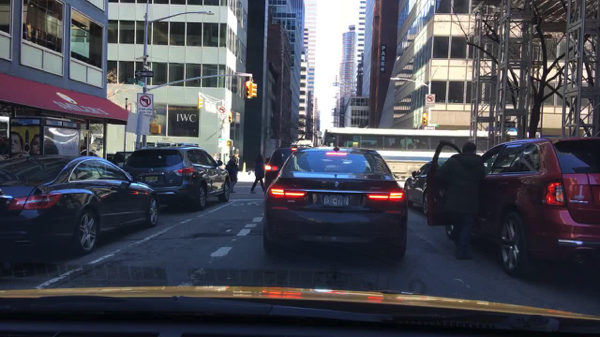bus: (322, 128, 539, 160), (422, 115, 426, 125)
car: (427, 138, 599, 275), (0, 155, 160, 254), (264, 148, 406, 258), (124, 147, 229, 210), (265, 145, 313, 198), (403, 160, 448, 215), (111, 151, 132, 166)
person: (435, 142, 484, 258), (251, 154, 264, 193), (229, 159, 239, 192), (225, 156, 233, 171)
traffic light: (246, 81, 251, 99), (150, 126, 162, 133), (253, 83, 257, 98), (228, 116, 231, 123), (228, 141, 232, 146)
traffic sign: (137, 93, 153, 116), (425, 95, 434, 107), (134, 72, 153, 77), (218, 106, 225, 118), (424, 127, 436, 130), (429, 124, 438, 126)
